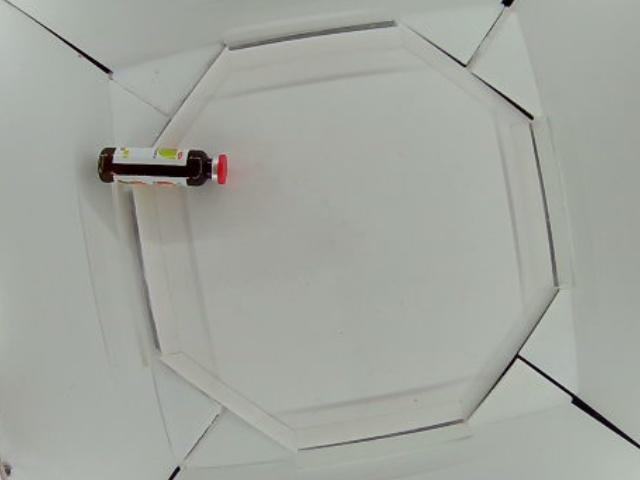Medicine: (96, 146, 228, 187)
